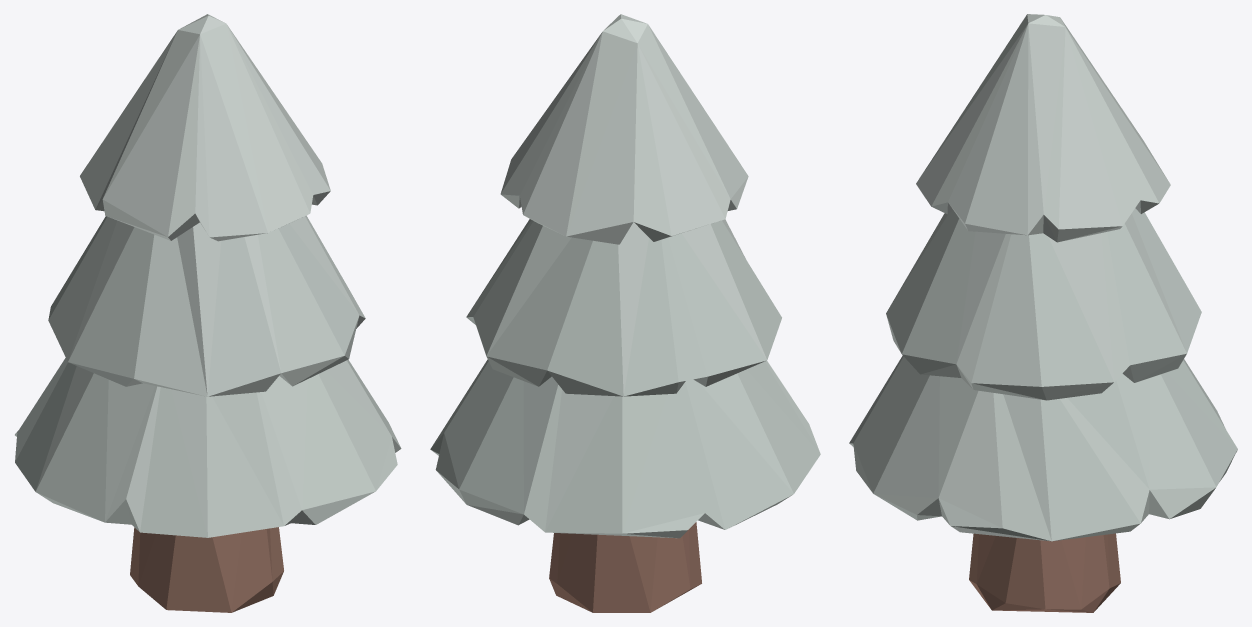
Rendered from tree_pine_snow.glb.
3 renders of one model, left to right at view 1: azimuth 30°, elevation 25°; view 2: azimuth 150°, elevation 25°; view 3: azimuth 270°, elevation 25°, orthographic.
Parts seen in each view (by area): view 1: scenery; view 2: scenery; view 3: scenery.
Boxes of the visible parts, left/top/right/bottom form: scenery: left=15, top=14, right=401, bottom=612; scenery: left=430, top=14, right=820, bottom=612; scenery: left=849, top=14, right=1237, bottom=612.
Bounding box in the file's own units: 0.62 × 1 × 0.6103.
